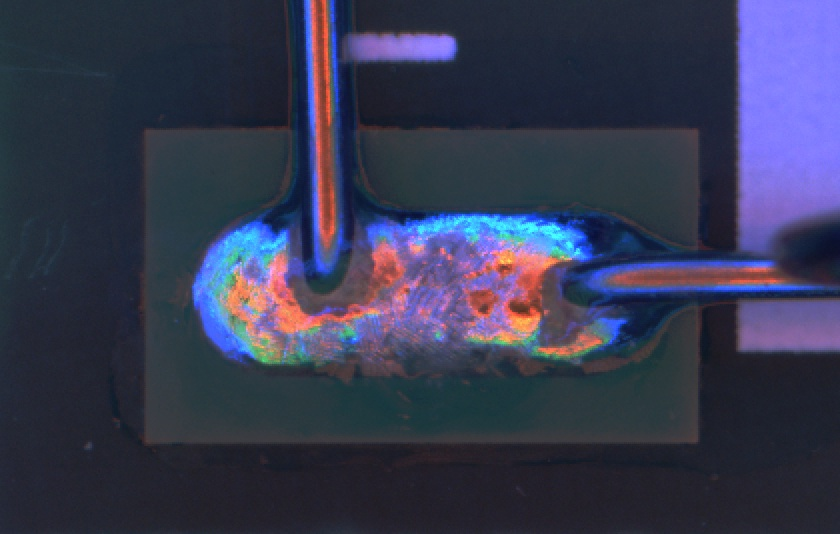spring: (560, 232, 840, 308), (293, 1, 355, 306)
spring_pin: (192, 213, 655, 373)
